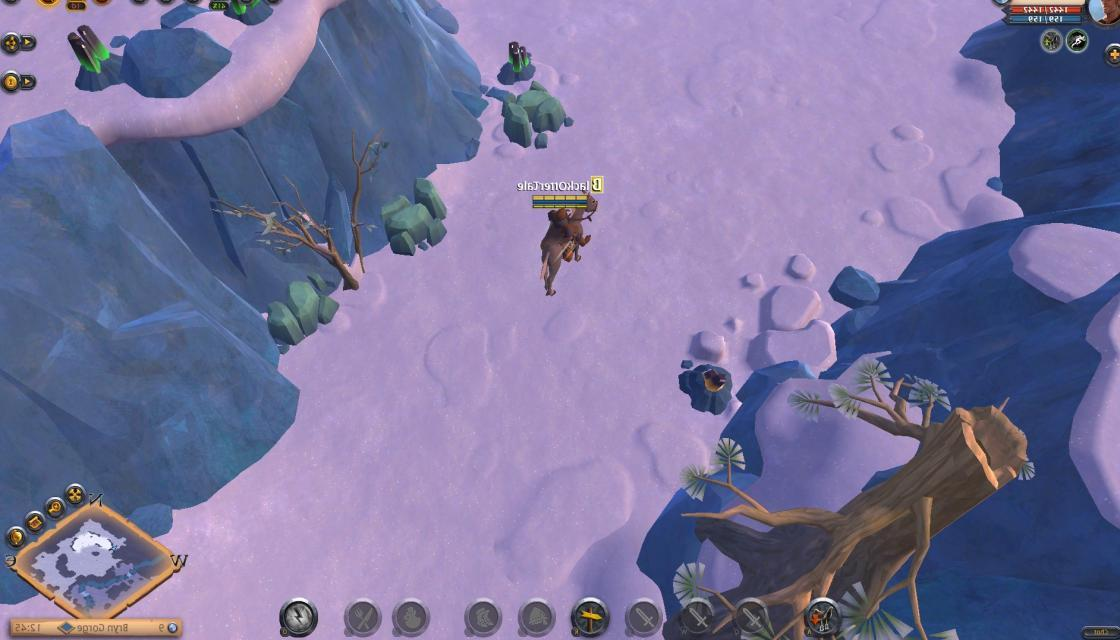copperore: (676, 361, 738, 418)
sandstone: (264, 268, 340, 346), (384, 175, 449, 257), (500, 80, 576, 148)
tinore: (67, 17, 124, 97), (489, 34, 547, 86), (217, 0, 278, 24)
